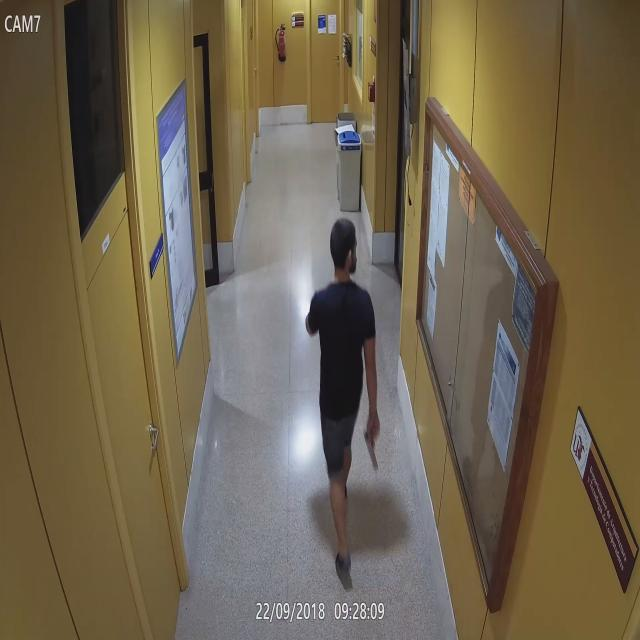Gun: (362, 421, 400, 477)
